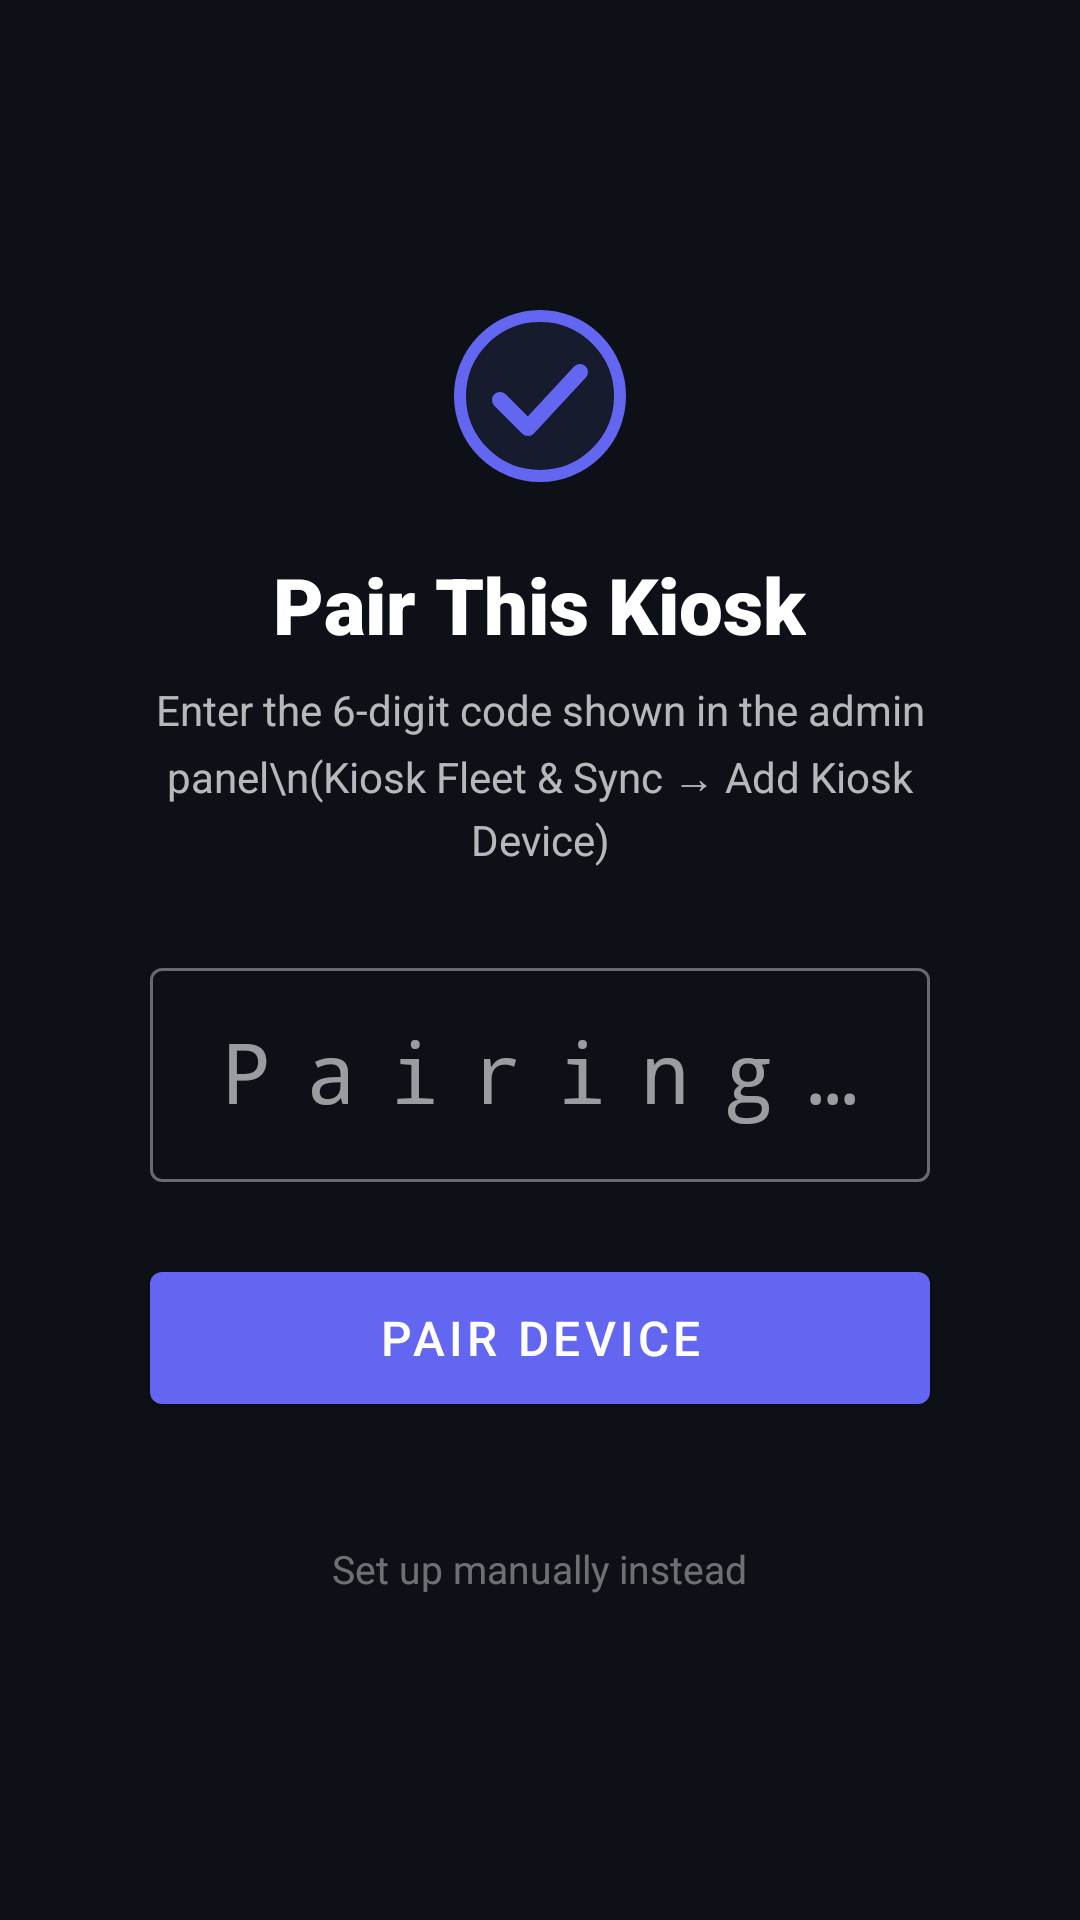

Where icons sit on this 1080x1920 app screen, as (x1, y1, x2, y2):
checkmark circle: (454, 310, 626, 482)
